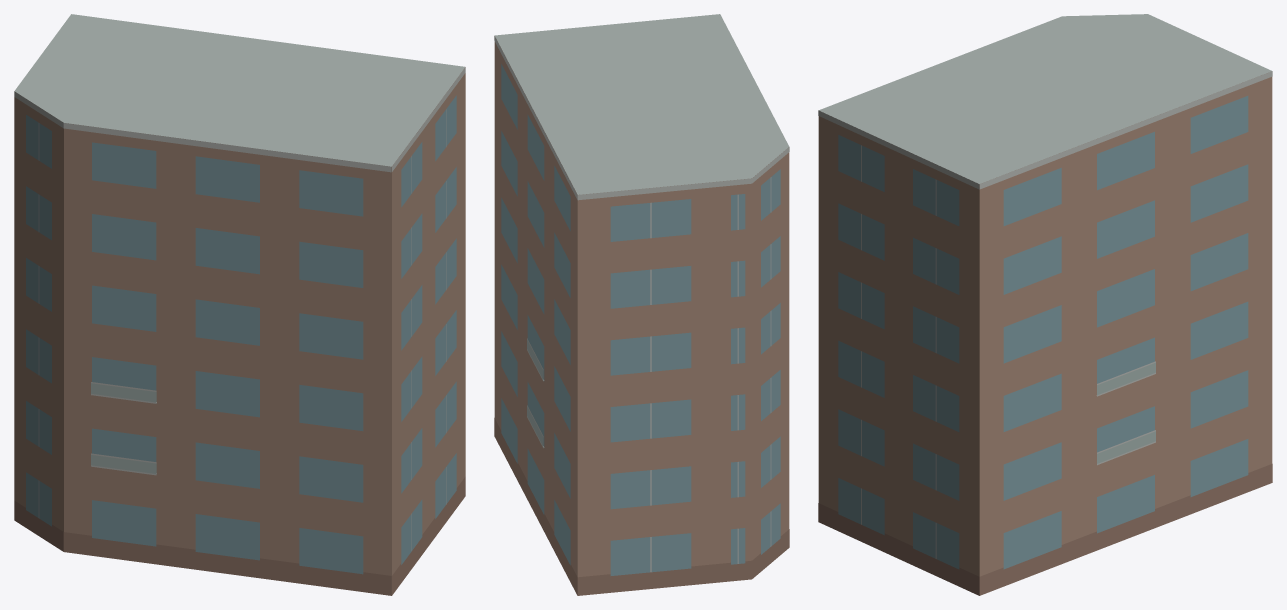
Rendered from survey-upis-32965025.glb.
3 renders of one model, left to right at view 1: azimuth 30°, elevation 25°; view 2: azimuth 150°, elevation 25°; view 3: azimuth 270°, elevation 25°, orthographic. The views are drawn at different scales.
Parts seen in each view (by area): view 1: survey-upis-32965025.tmp; view 2: survey-upis-32965025.tmp; view 3: survey-upis-32965025.tmp.
Part boxes in pixels (<box>): survey-upis-32965025.tmp: <box>14,14,465,595</box>; survey-upis-32965025.tmp: <box>494,14,789,595</box>; survey-upis-32965025.tmp: <box>818,14,1272,595</box>.
Size of the model in its own units: 16.22 by 18.3 by 18.29.
